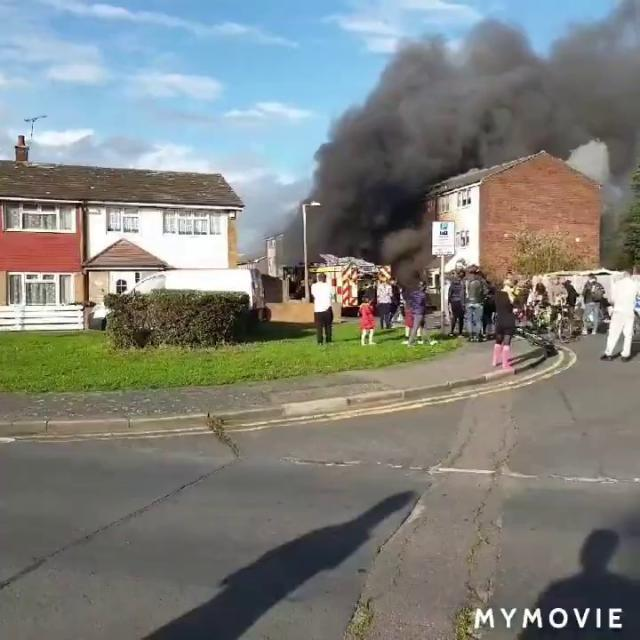Smoke: (272, 9, 524, 262), (518, 0, 640, 199)
